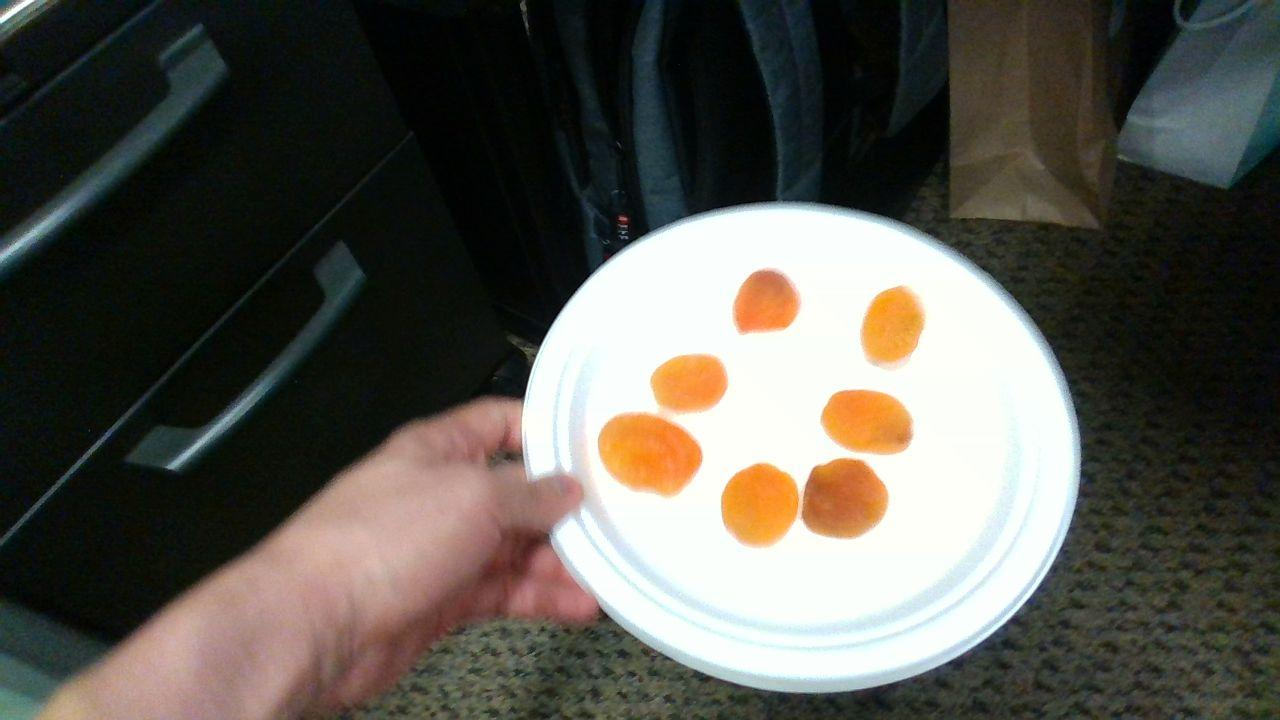apricot: (599, 414, 703, 495), (804, 460, 887, 538), (721, 464, 798, 547), (823, 390, 913, 454), (861, 286, 922, 366), (652, 354, 727, 411), (736, 270, 799, 333)
